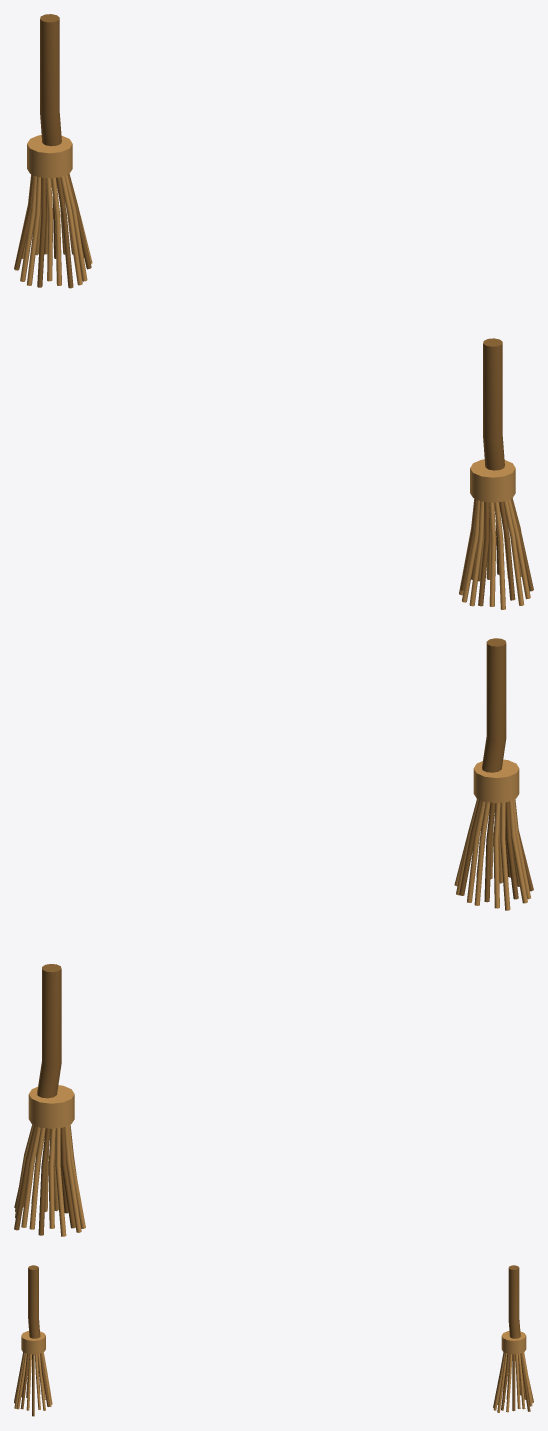
The model's file is SM_Menu_MenuTassels.fbx.
3 views of the same model, one above another, from view 1: azimuth 30°, elevation 25°; view 2: azimuth 150°, elevation 25°; view 3: azimuth 270°, elevation 25° (orthographic). The views are drawn at different scales.
Visible parts, largest first — view 1: Tassel Cord.002_Baked; view 2: Tassel Cord.002_Baked; view 3: Tassel Cord.002_Baked.
Boxes of the visible parts, <box> form: Tassel Cord.002_Baked: <box>14,14,533,609</box>; Tassel Cord.002_Baked: <box>14,638,533,1236</box>; Tassel Cord.002_Baked: <box>14,1265,533,1416</box>.
Bounding box in the file's own units: 11.45 × 139 × 41.04.
